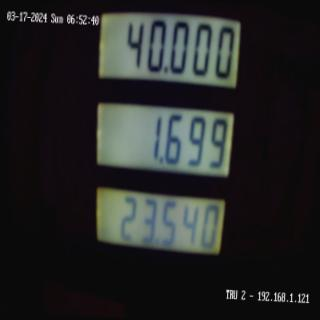screen: (84, 0, 249, 292)
